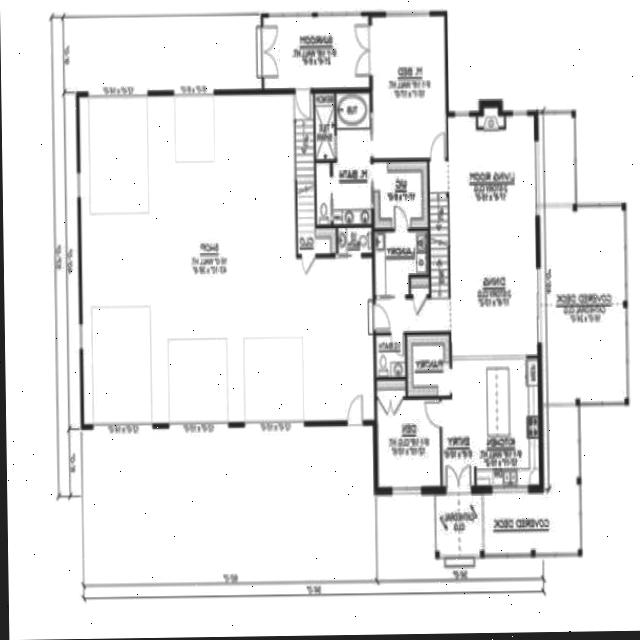room: (80, 93, 374, 422), (373, 117, 539, 486), (371, 17, 446, 158), (264, 17, 368, 88), (377, 379, 440, 488), (316, 96, 370, 222), (373, 164, 427, 226), (376, 233, 429, 294), (408, 336, 449, 394), (376, 336, 405, 376), (338, 229, 371, 251)
